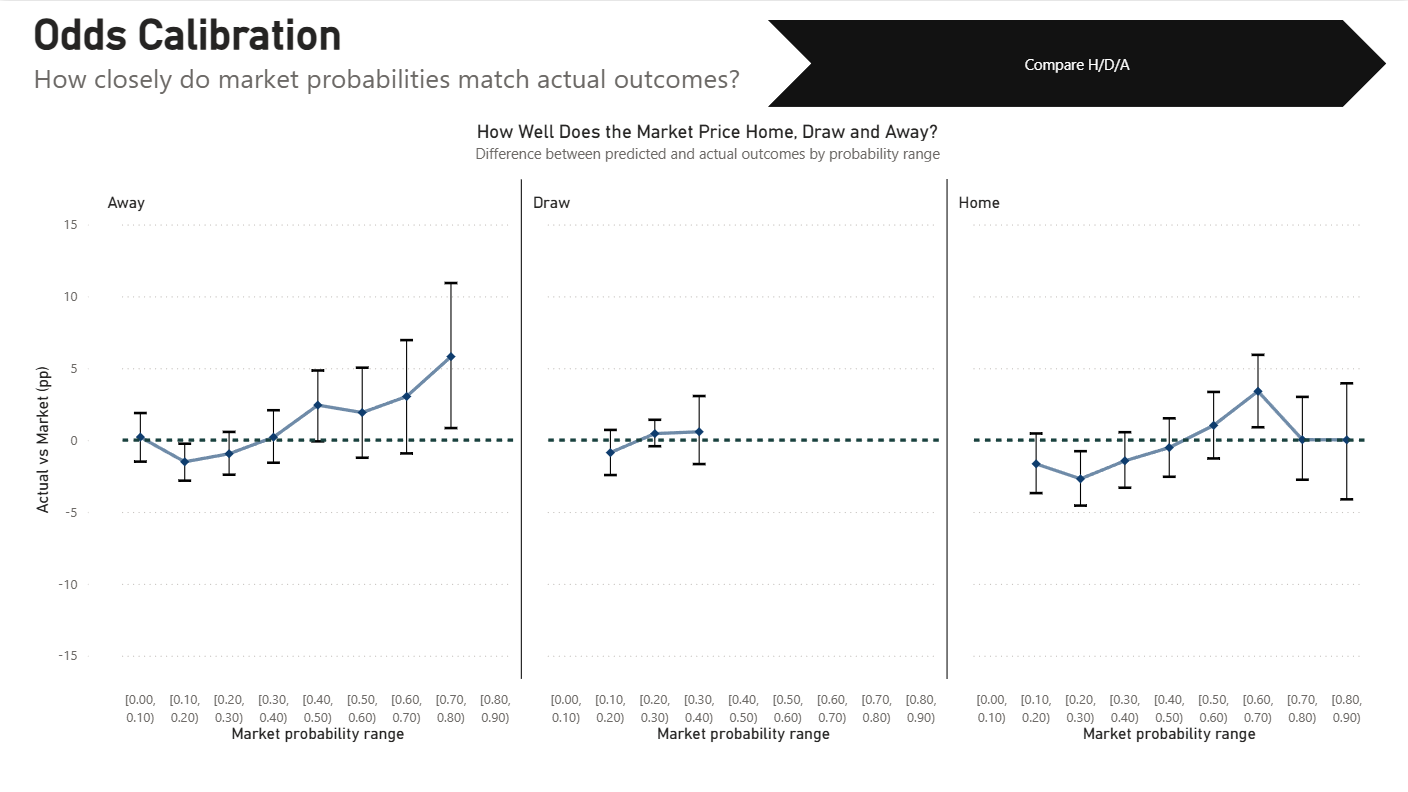

Layout of this report page (visuals, bound fields, positions):
{"tool":"powerbi","page":{"name":"Odds Calibration","canvas":[1280,720],"ordinal":1},"visuals":[{"type":"lineChart","title":"How Well Does the Market Price Home, Draw and Away?","fields":{"Category":["Calibration.probability_bin"],"Y":["_Measures.Calibration Gap (pp)"],"Rows":["Calibration.segment_label"]},"box":[25.5,108.2,1235.5,571.8],"z":0},{"type":"bookmarkNavigator","box":[698.2,17.3,562.7,79.1],"z":2000},{"type":"textbox","title":"Odds Calibration","box":[25.5,7.3,661.8,89.1],"z":3000}]}

Visuals, with their boxes in screenshot pixels (x1, y1, x2, y2), scaled from the page's 1280x720 canvas onto the 1408x792 screenshot:
"How Well Does the Market Price Home, Draw and Away?" lineChart: BBox(28, 119, 1387, 748)
bookmarkNavigator: BBox(768, 19, 1387, 106)
"Odds Calibration" textbox: BBox(28, 8, 756, 106)
